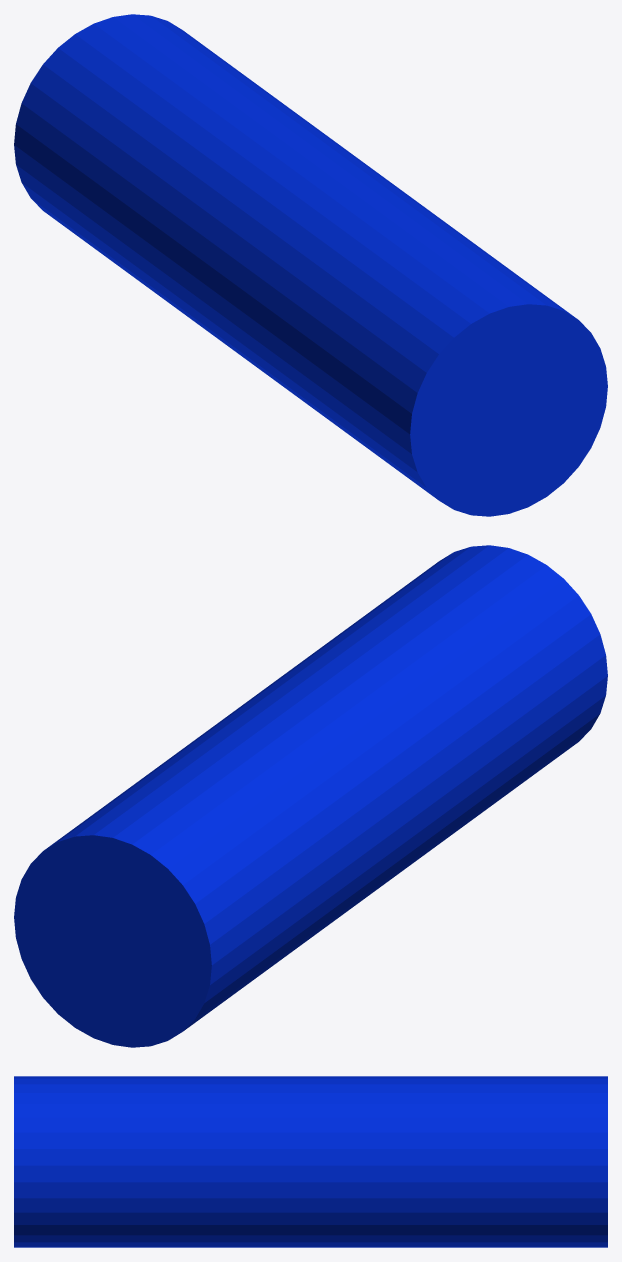
File: playerBullet1.obj
The picture shows the model from 3 angles, top to bottom: view 1: azimuth 30°, elevation 25°; view 2: azimuth 150°, elevation 25°; view 3: azimuth 270°, elevation 25°; orthographic projection. The views are drawn at different scales.
Parts seen in each view (by area): view 1: 円柱; view 2: 円柱; view 3: 円柱.
Boxes of the visible parts, <box> form: 円柱: <box>14,14,607,516</box>; 円柱: <box>14,545,607,1047</box>; 円柱: <box>14,1076,607,1247</box>.
Bounding box in the file's own units: 1.09 × 1.09 × 3.78.
Materials: 1 (1 with a texture image).
